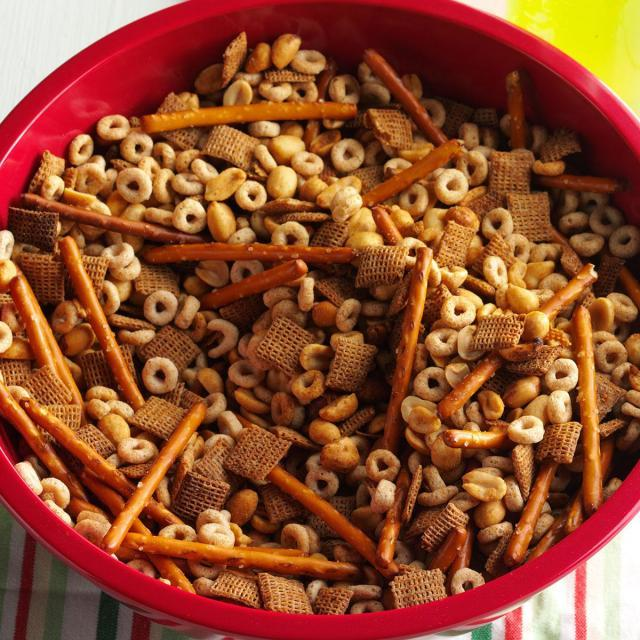Salatini: (7, 42, 627, 596)
